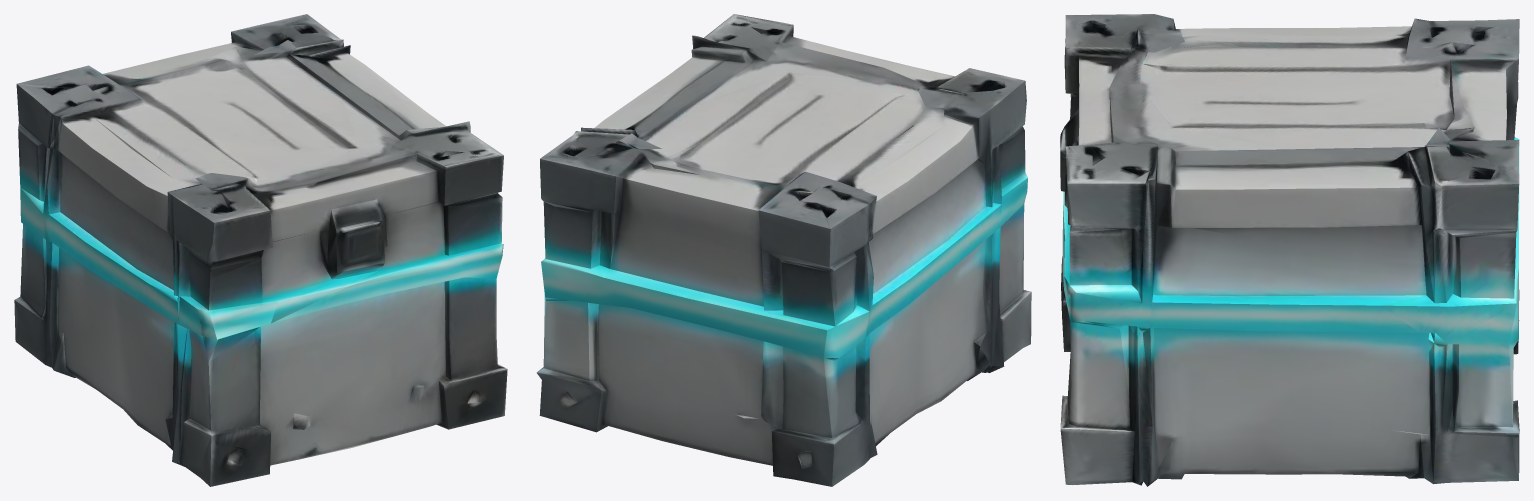
The model's file is m2SpaceCrate.glb.
The picture shows the model from 3 angles, left to right: view 1: azimuth 30°, elevation 25°; view 2: azimuth 150°, elevation 25°; view 3: azimuth 270°, elevation 25°; orthographic projection. The views are drawn at different scales.
Parts seen in each view (by area): view 1: model; view 2: model; view 3: model.
Boxes of the visible parts, left/top/right/bottom form: model: left=14, top=14, right=507, bottom=486; model: left=536, top=14, right=1031, bottom=486; model: left=1060, top=14, right=1519, bottom=486.
Size of the model in its own units: 1.68 by 1.44 by 1.89.
Materials: 1 (1 with a texture image).
